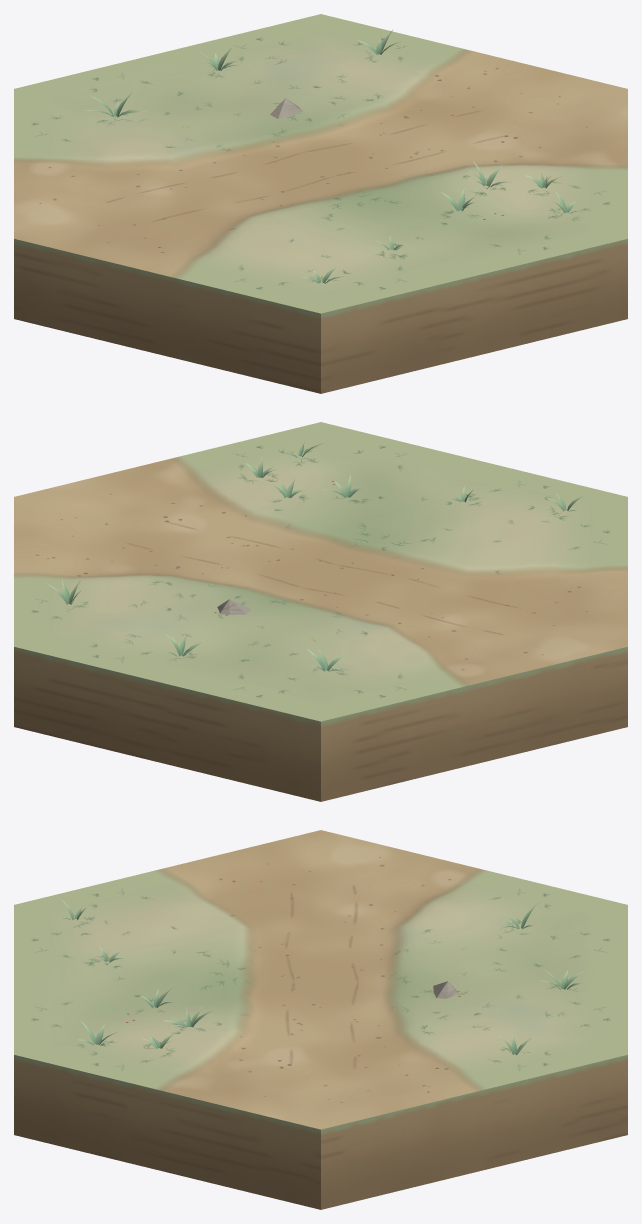
The model's file is Hex_Road.glb.
3 views of the same model, one above another, from view 1: azimuth 30°, elevation 25°; view 2: azimuth 150°, elevation 25°; view 3: azimuth 270°, elevation 25° (orthographic).
Visible parts, largest first — view 1: Hex_Road; view 2: Hex_Road; view 3: Hex_Road.
Part boxes in pixels (<box>): Hex_Road: <box>14,14,627,393</box>; Hex_Road: <box>14,422,627,801</box>; Hex_Road: <box>14,830,627,1209</box>.
Bounding box in the file's own units: 8 × 1.25 × 6.93.
Materials: 2 (2 with a texture image).
